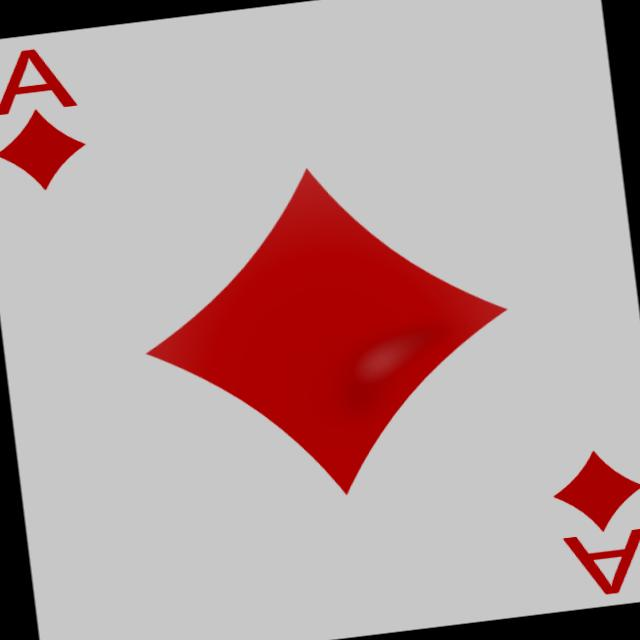Diamond: (125, 145, 528, 517), (547, 444, 640, 537), (0, 103, 92, 195)
